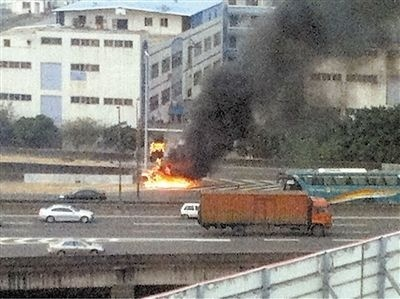fire: (139, 138, 199, 189)
